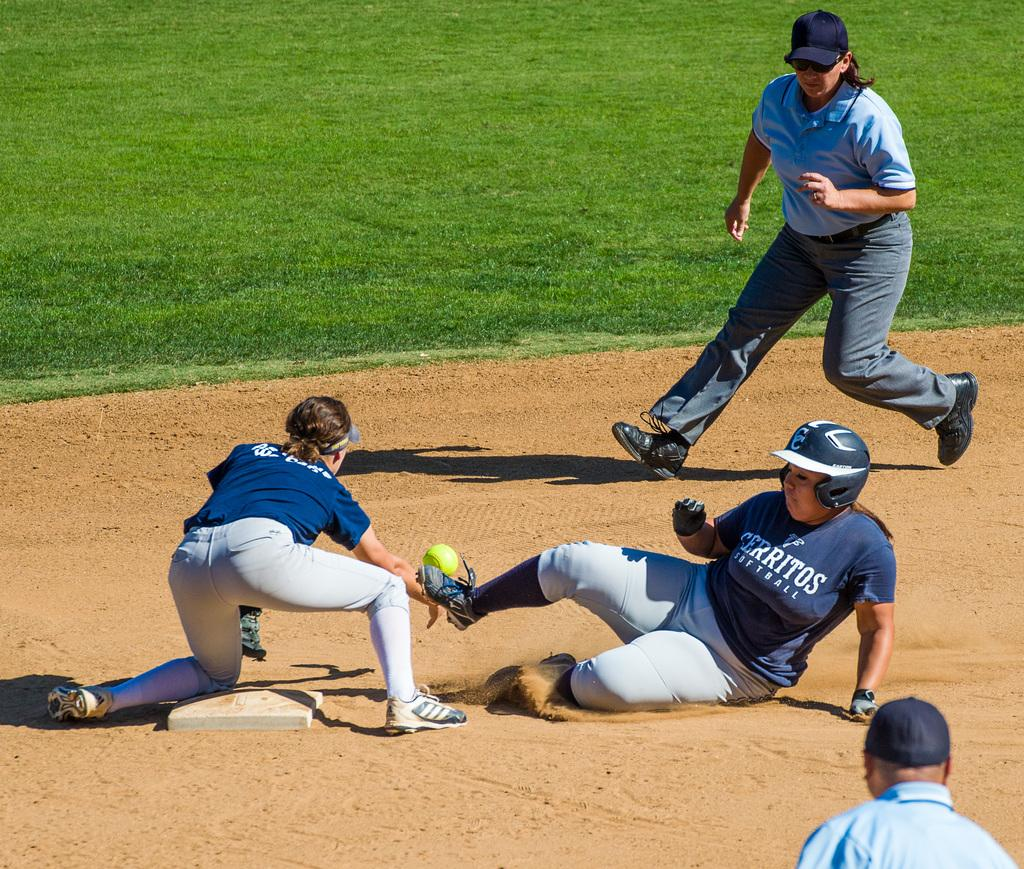Pessoa: (613, 10, 977, 478), (418, 421, 895, 715), (48, 396, 465, 732), (797, 697, 1015, 868), (239, 605, 266, 660)
